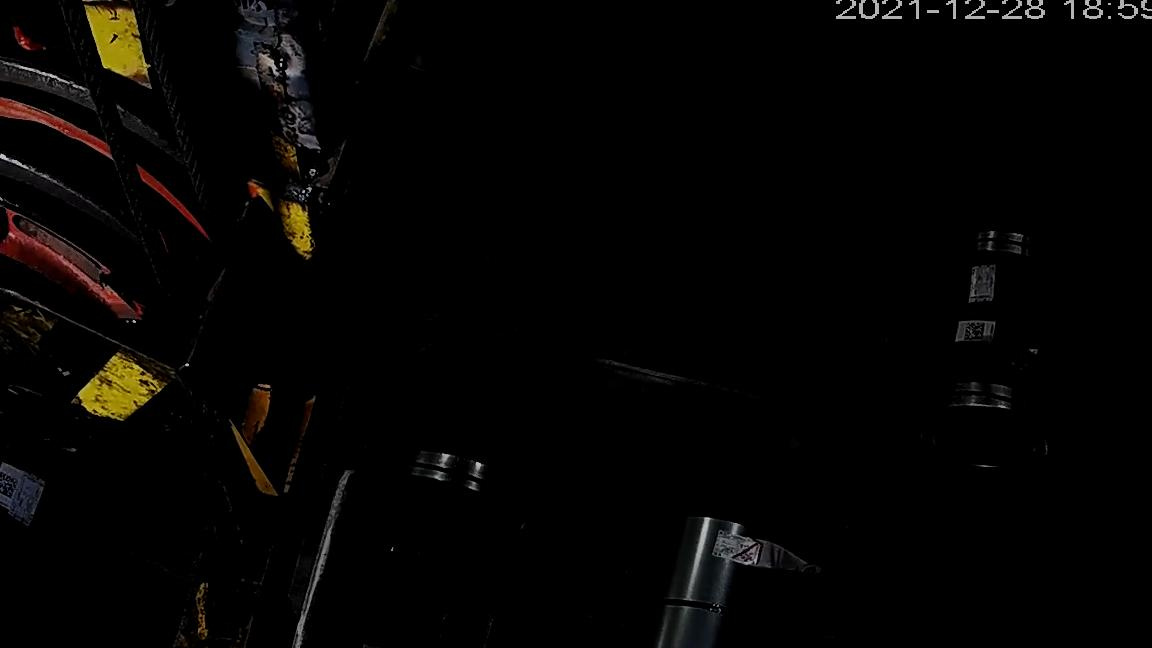data matrix: (1, 470, 24, 503), (962, 320, 989, 345)
